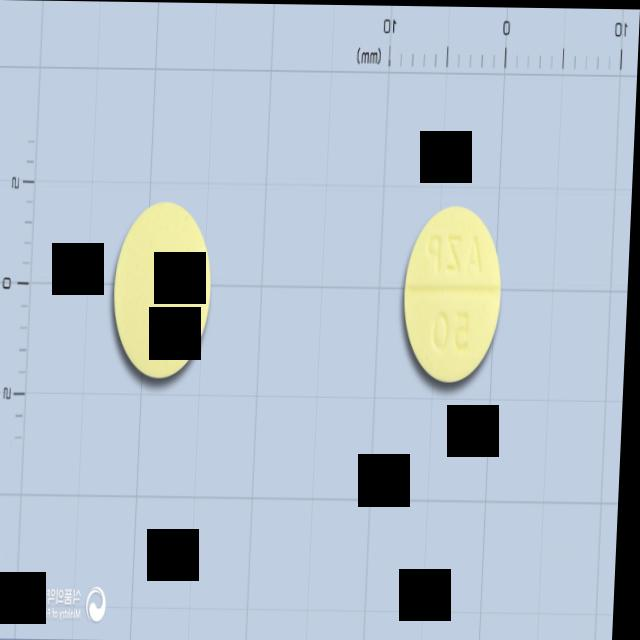Teva Azathioprine Tab: (112, 199, 217, 379), (404, 205, 506, 383)
